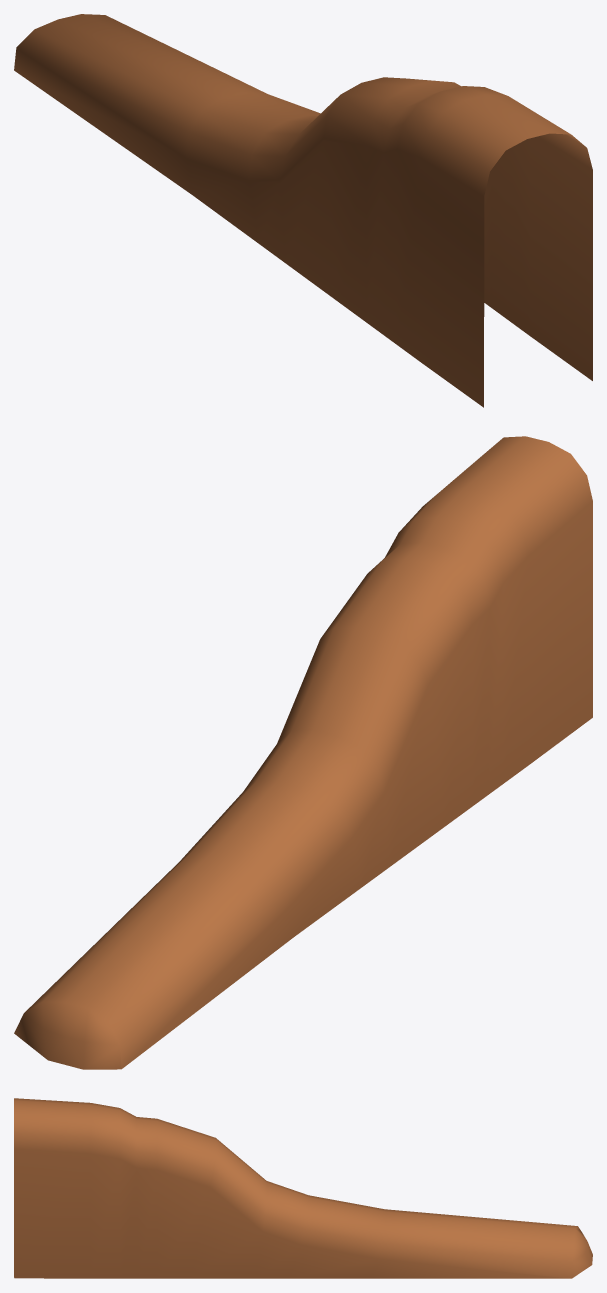
File: SeaBe.fbx
3 views of the same model, one above another, from view 1: azimuth 30°, elevation 25°; view 2: azimuth 150°, elevation 25°; view 3: azimuth 270°, elevation 25° (orthographic). The views are drawn at different scales.
Visible parts, largest first — view 1: Cube; view 2: Cube; view 3: Cube.
Boxes of the visible parts, x1,y1,x2,y2 form: Cube: (14,14,592,407); Cube: (14,436,592,1069); Cube: (14,1098,592,1278).
Bounding box in the file's own units: 1802 × 3955 × 13002.
